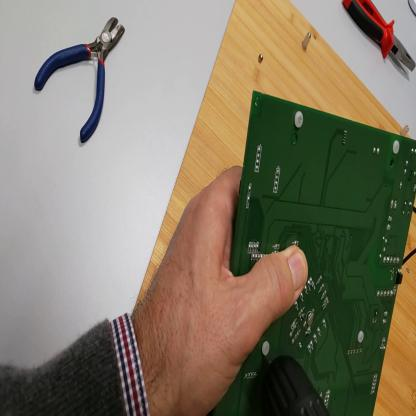electric screwdriver: (250, 354, 331, 416)
hand: (134, 168, 307, 415)
low voltage board: (215, 90, 416, 416)
pliers: (33, 15, 125, 146), (343, 3, 416, 77)
working area: (138, 1, 416, 413)
